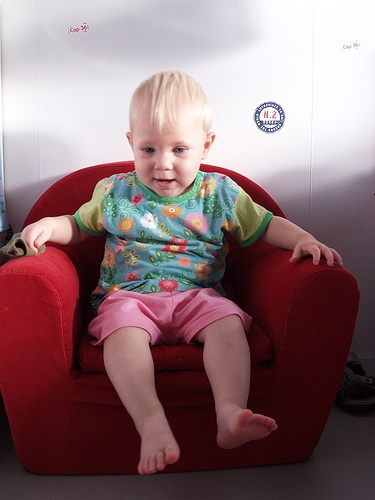head: (126, 71, 217, 199)
person: (13, 71, 344, 476)
